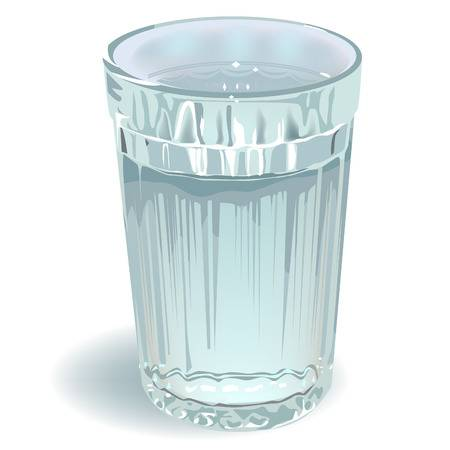glass of water: (102, 37, 346, 423)
